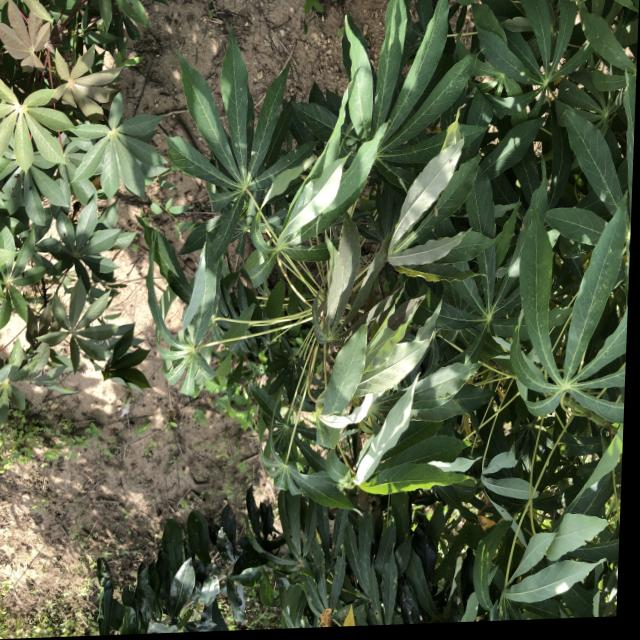Mosca: (11, 169, 23, 202), (21, 178, 40, 194), (367, 90, 384, 106), (433, 203, 442, 222), (247, 145, 257, 159)
